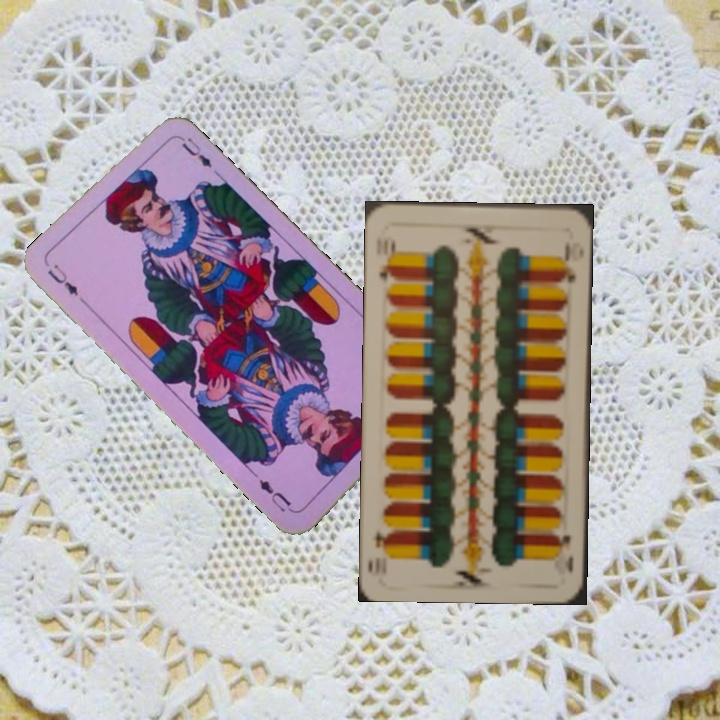E10: (552, 530, 576, 575), (376, 235, 398, 284)
EU: (43, 260, 82, 298)
